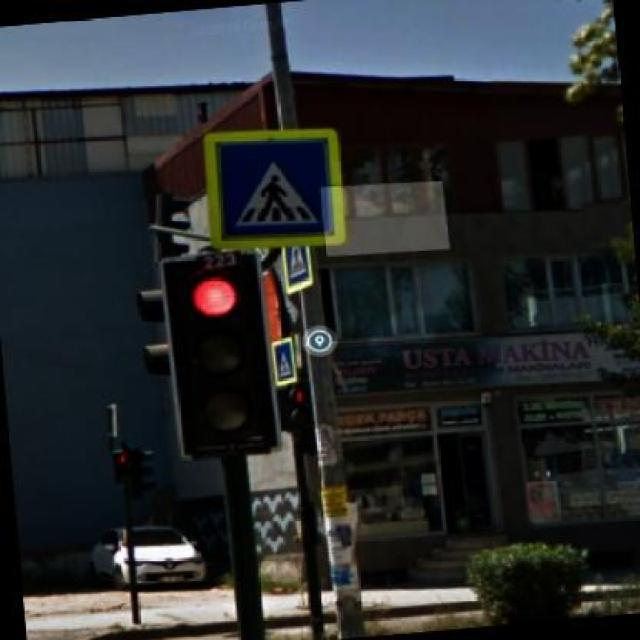kirmizi: (165, 263, 280, 462)
yaya: (206, 128, 345, 248)
